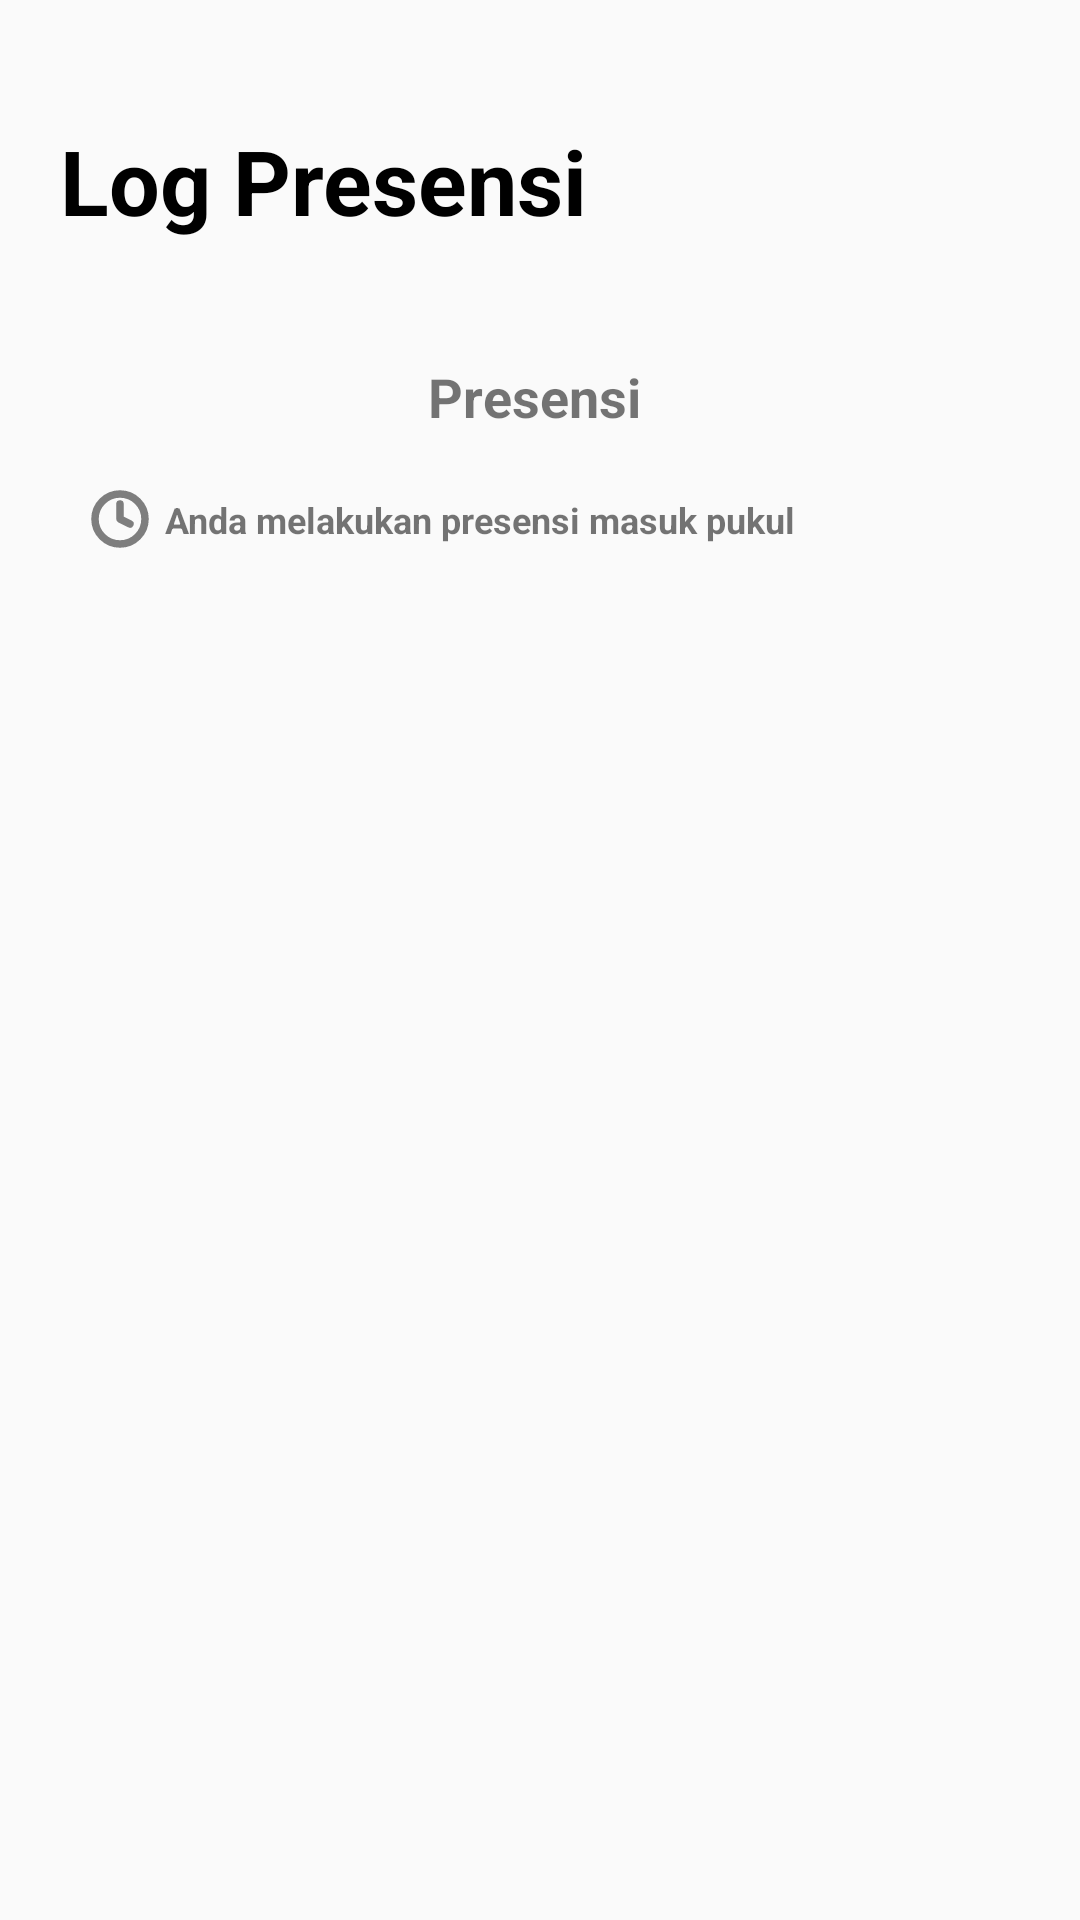

Screen size 1080px×1920px. Icon name, then its box in pixels as (x1, y1, x2, y2):
jam: (91, 490, 149, 548)
